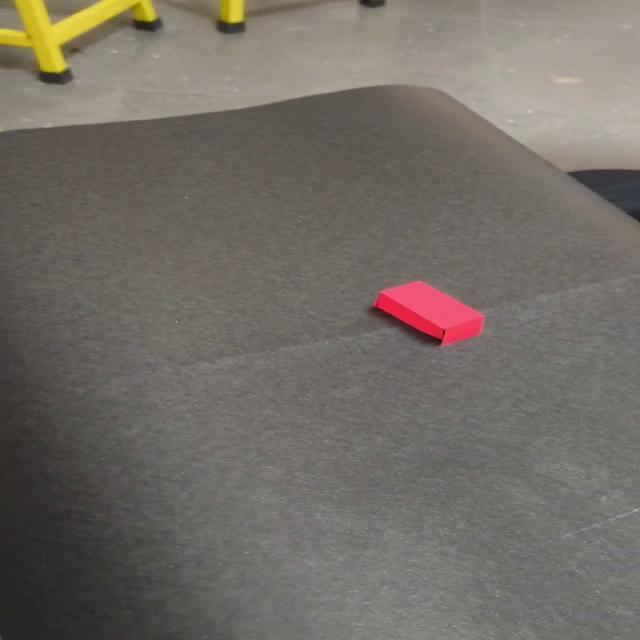red block: (372, 279, 485, 345)
